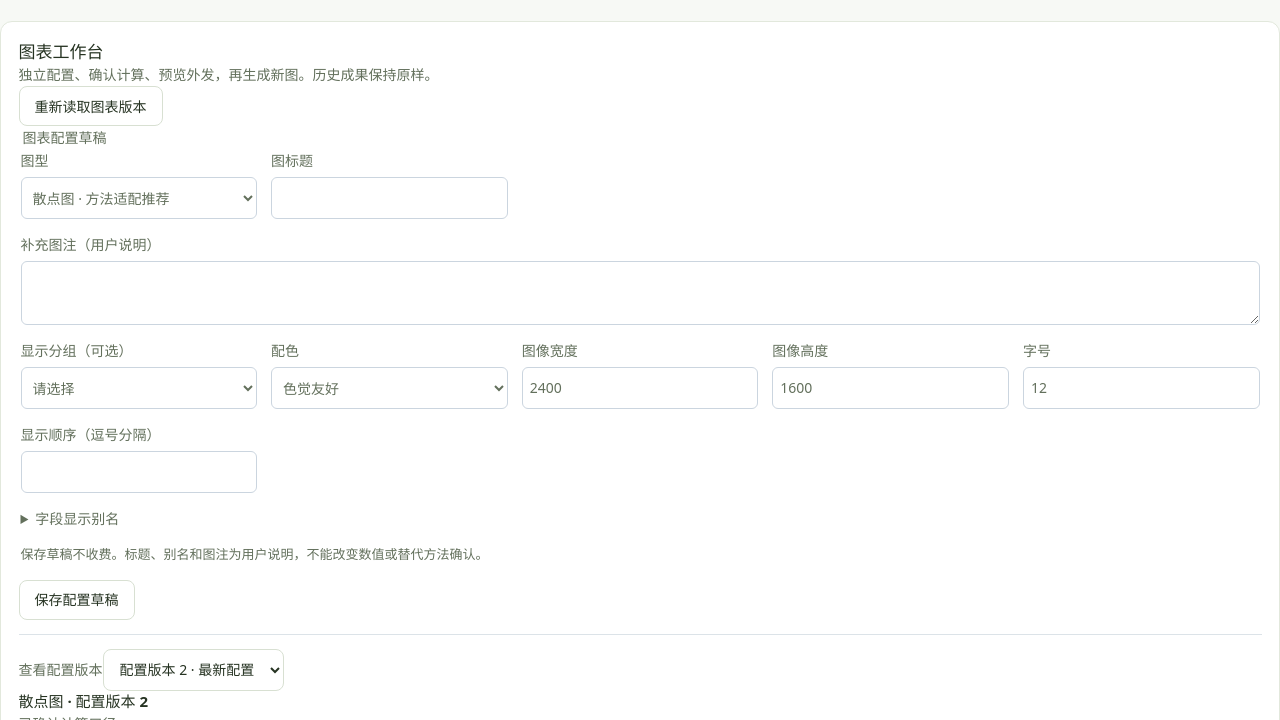
Test: a missing selected configuration never falls back to the latest version on reload
Select "配置版本 1" in the dropdown labelled "查看配置版本" at (193, 670), box [102, 648, 284, 690]
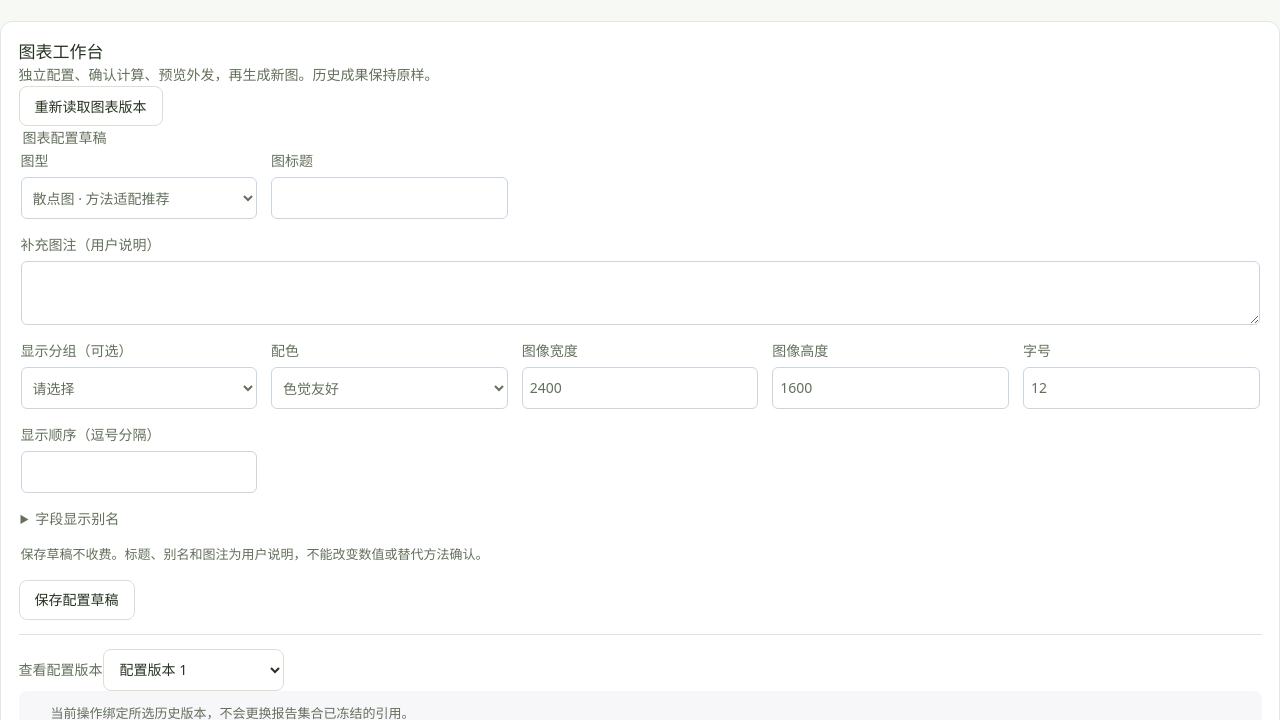
Click the button "重新读取图表版本".
click(90, 106)  # box [18, 86, 162, 126]
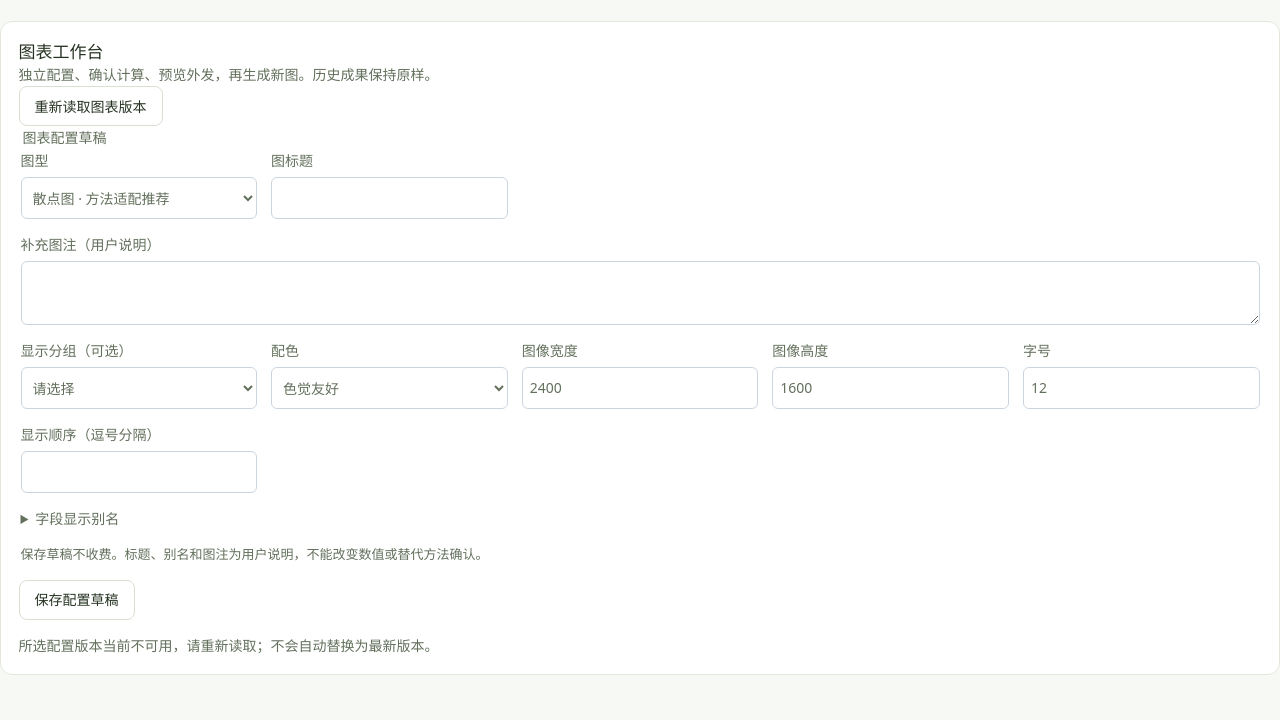
expect the text "所选配置版本当前不可用，请重新读取；不会自动替换为最新版本。" is shown: met, box [18, 636, 438, 654]
